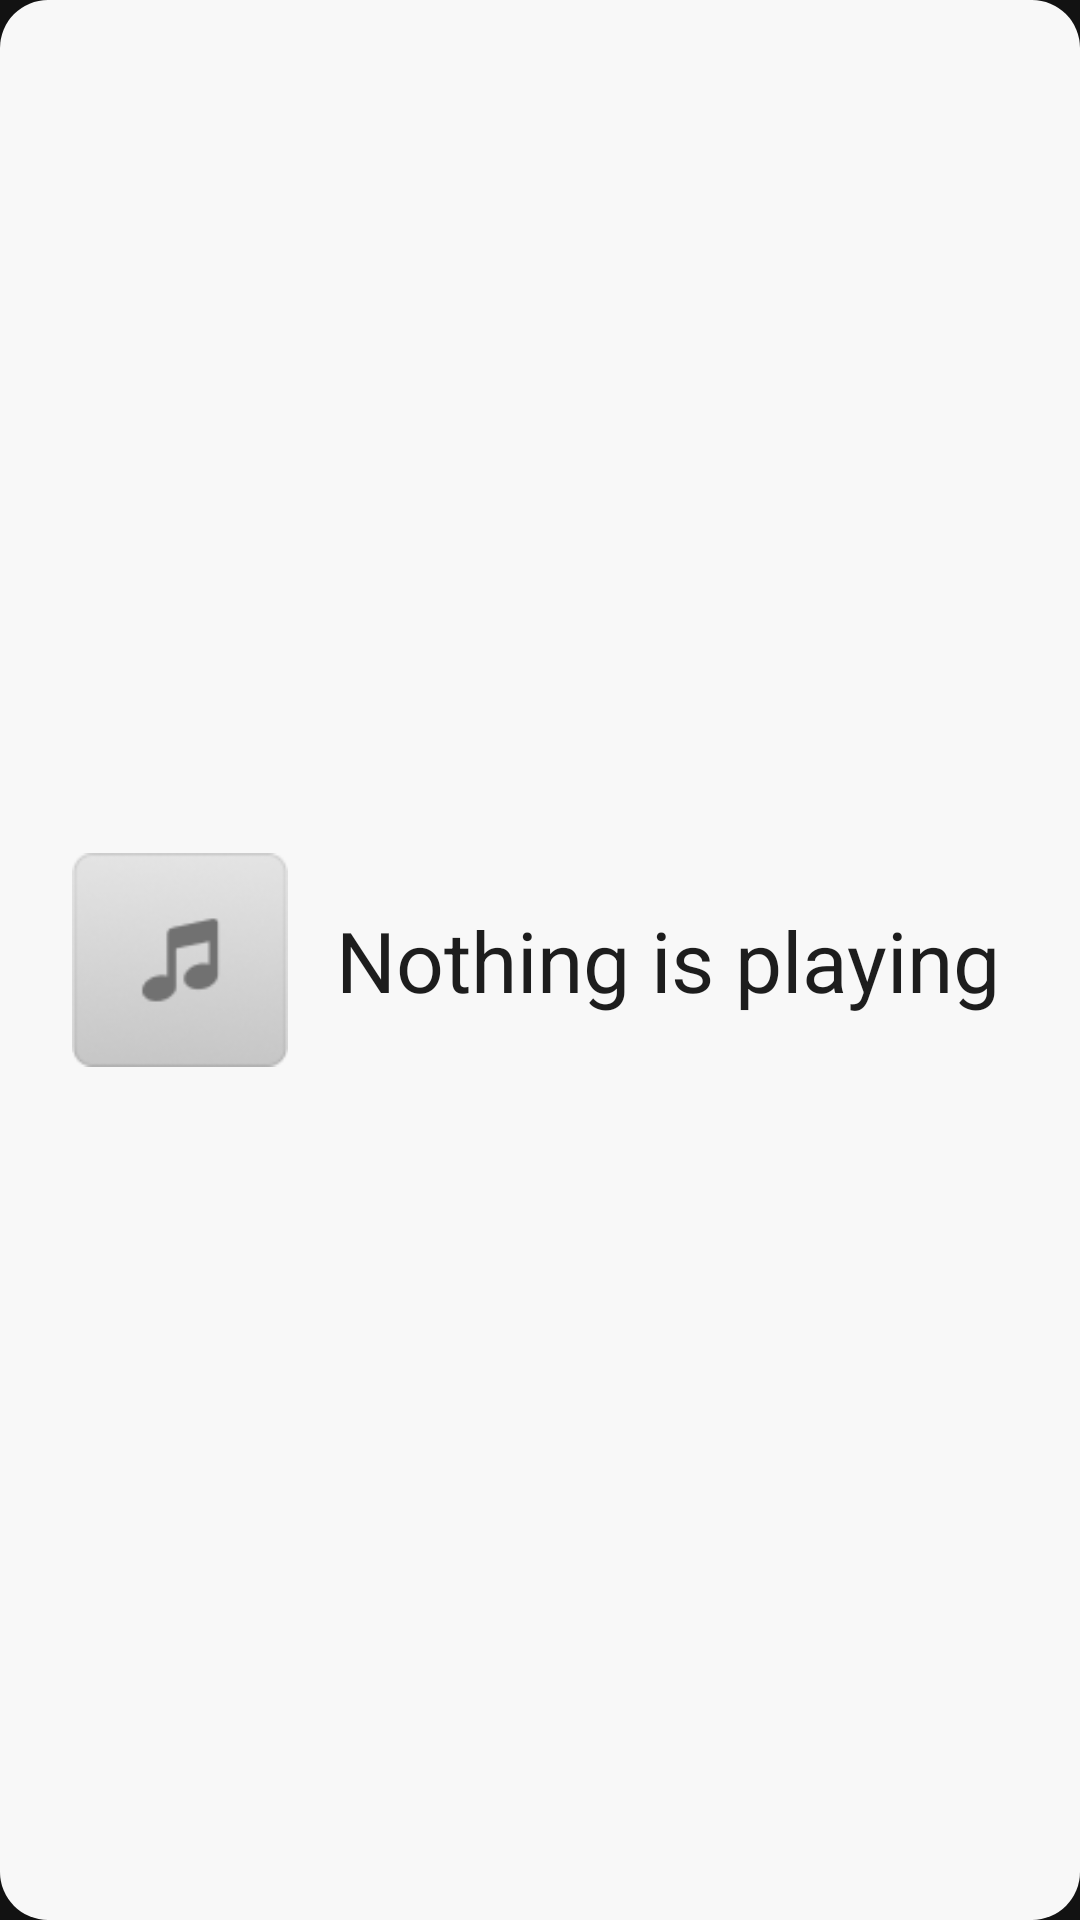

Icon click points for this 1080px×1920px phone screenshot, format (x=x, y=y):
song noimg: (x=180, y=960)
